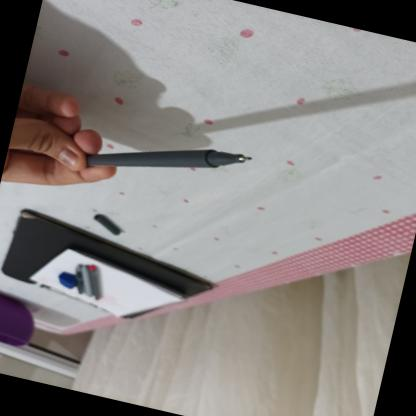pencil: (79, 110, 256, 212)
